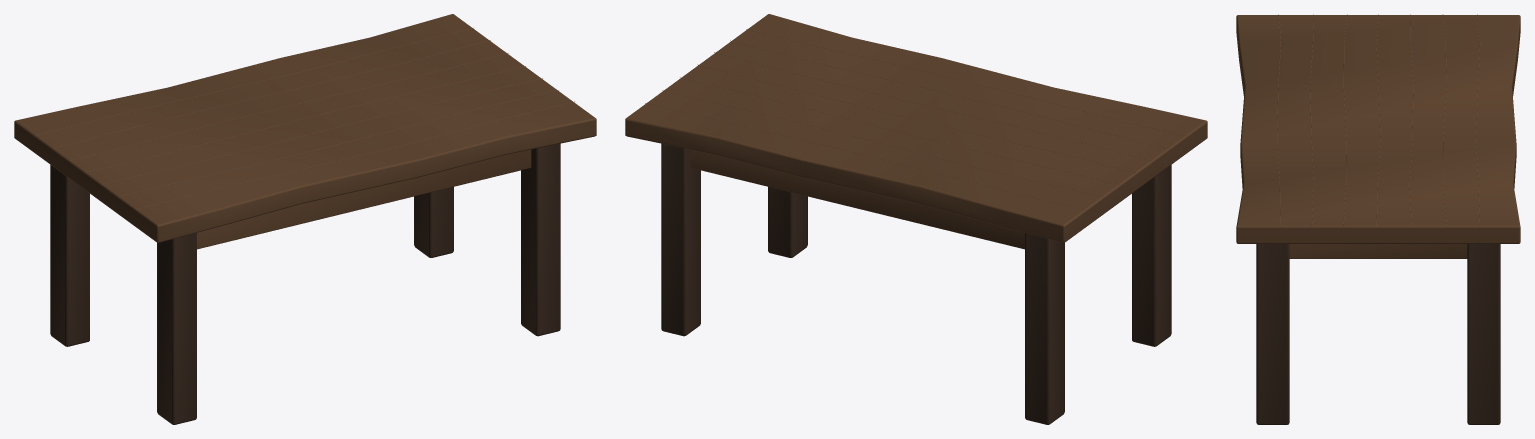
The model's file is kominka-dining-table-01.glb.
3 views of the same model, side by side, from view 1: azimuth 30°, elevation 25°; view 2: azimuth 150°, elevation 25°; view 3: azimuth 270°, elevation 25° (orthographic).
Parts seen in each view (by area): view 1: kominka-dining-table-01; view 2: kominka-dining-table-01; view 3: kominka-dining-table-01.
Part boxes in pixels (<box>): kominka-dining-table-01: <box>14,14,596,424</box>; kominka-dining-table-01: <box>625,14,1207,424</box>; kominka-dining-table-01: <box>1236,14,1520,424</box>.
Size of the model in its own units: 1.5 by 0.7 by 0.85.
